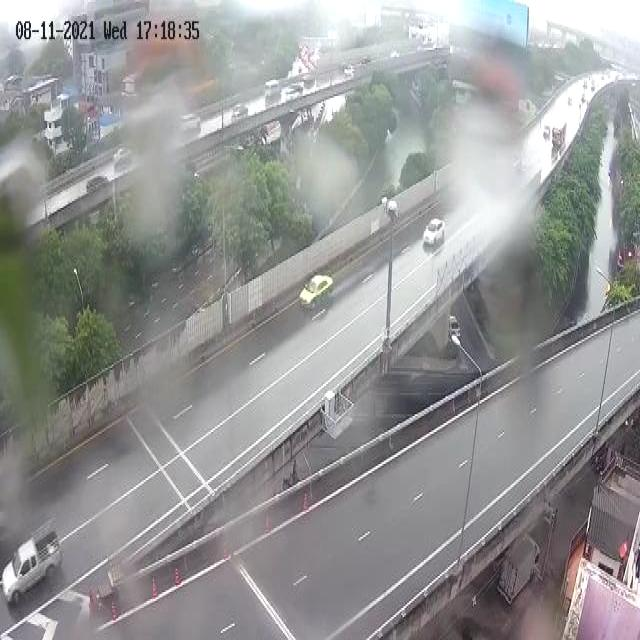Car: (299, 272, 336, 311), (421, 216, 448, 250), (112, 145, 134, 170), (445, 312, 464, 340), (230, 100, 250, 125)
Truck: (0, 514, 66, 612)
Van: (265, 80, 282, 102)
